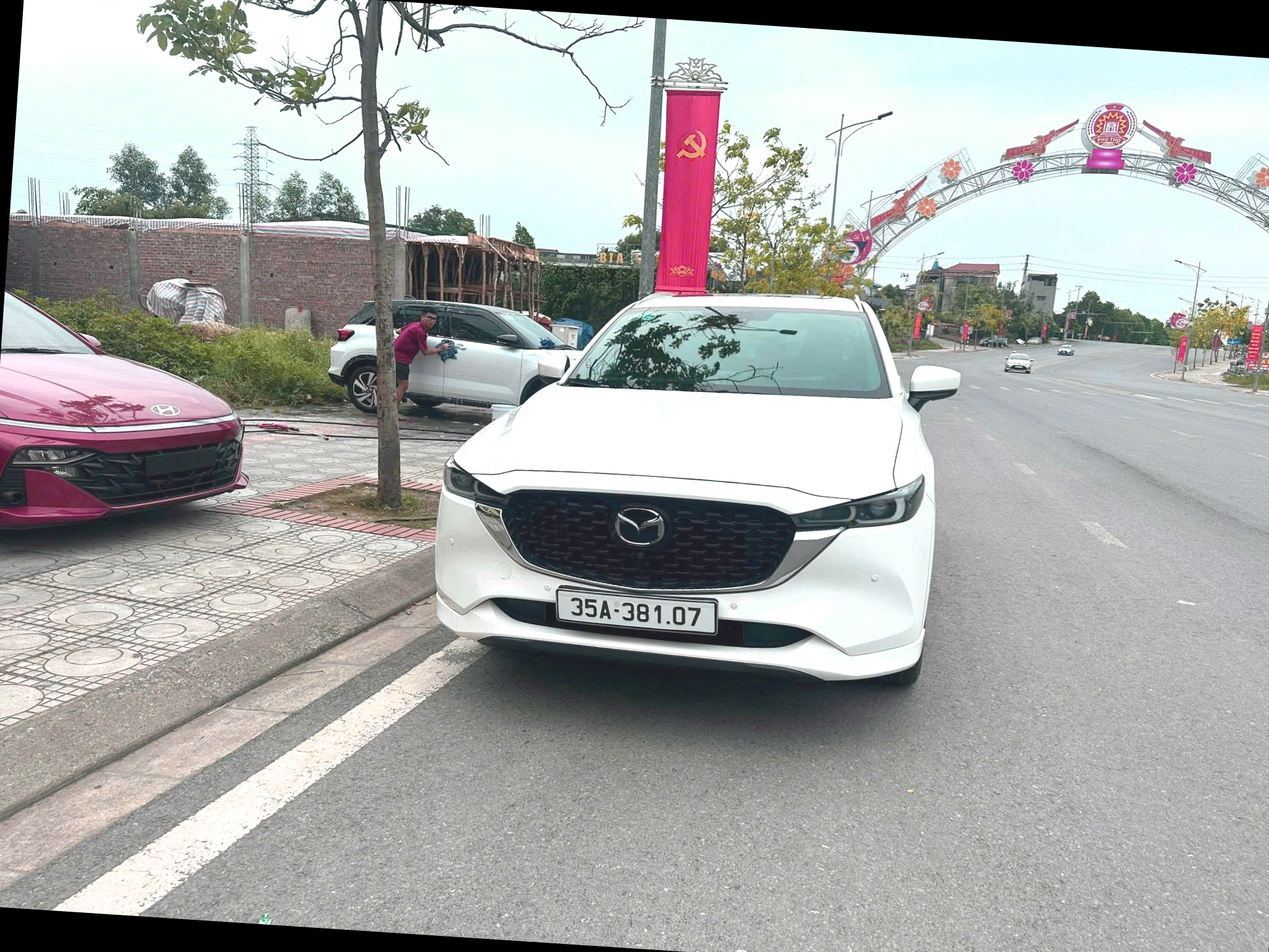Bien-so: (557, 585, 716, 638)
